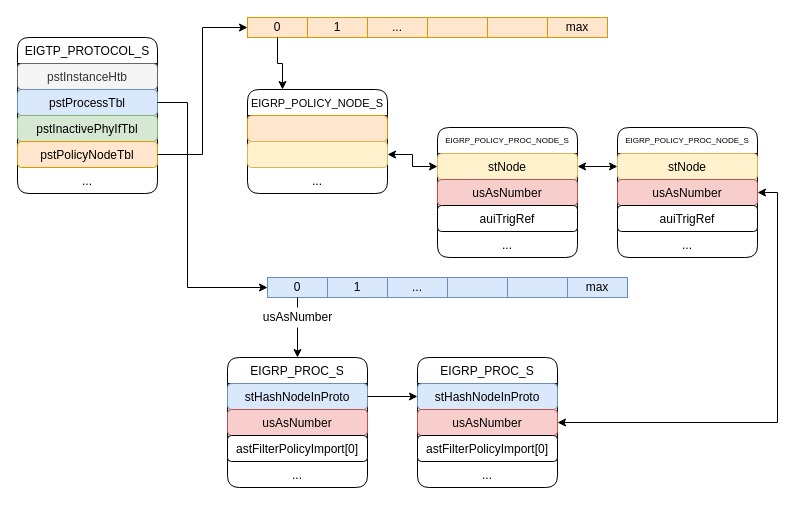
This 804x508 diagram has some shape labels left out. The centre of each missing label's shape, as x and y in pixels:
"stHashNode" goes at [317,128].
"stProcList" goes at [317,154].
